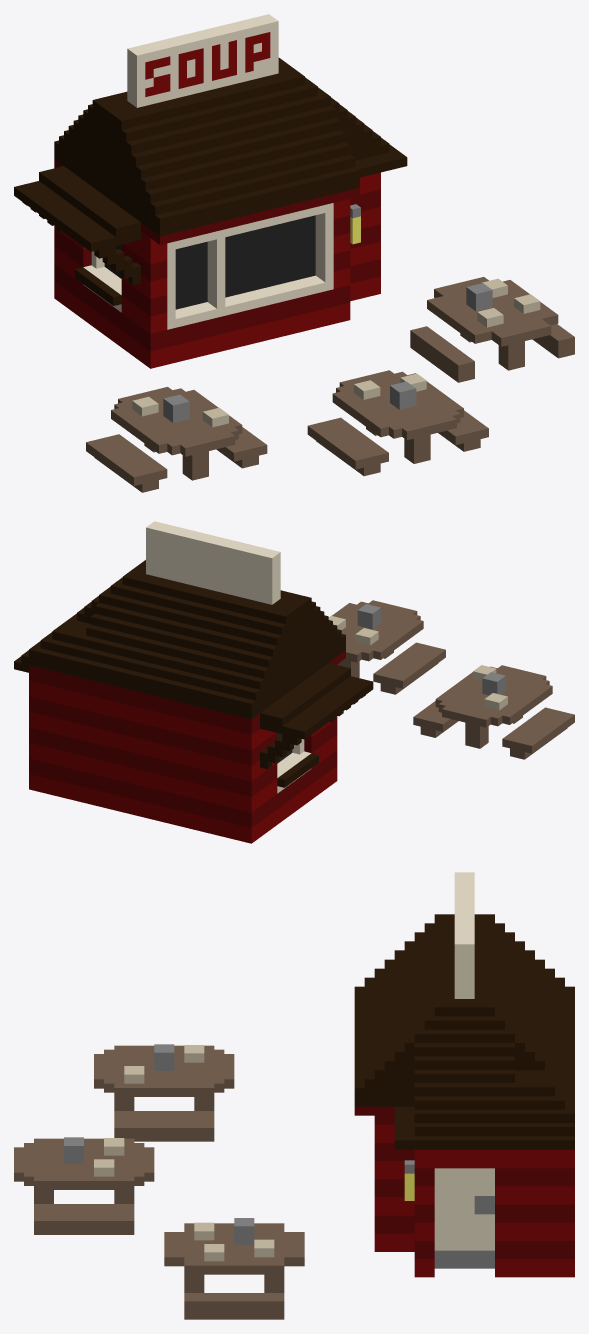
File: soup1.obj
The picture shows the model from 3 angles, top to bottom: view 1: azimuth 30°, elevation 25°; view 2: azimuth 150°, elevation 25°; view 3: azimuth 270°, elevation 25°; orthographic projection. The views are drawn at different scales.
Parts seen in each view (by area): view 1: soup1; view 2: soup1; view 3: soup1.
Part boxes in pixels (x1=…): soup1: x1=14, y1=14, x2=574, y2=492; soup1: x1=14, y1=521, x2=574, y2=843; soup1: x1=14, y1=872, x2=574, y2=1319.
Bounding box in the file's own units: 57 × 32 × 56.
1 material, 1 textured.
